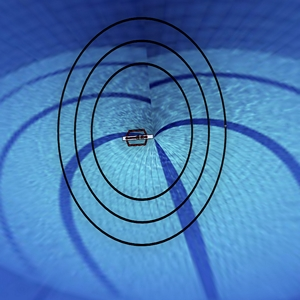circle: (48, 6, 236, 264)
submarine: (115, 117, 157, 155)
